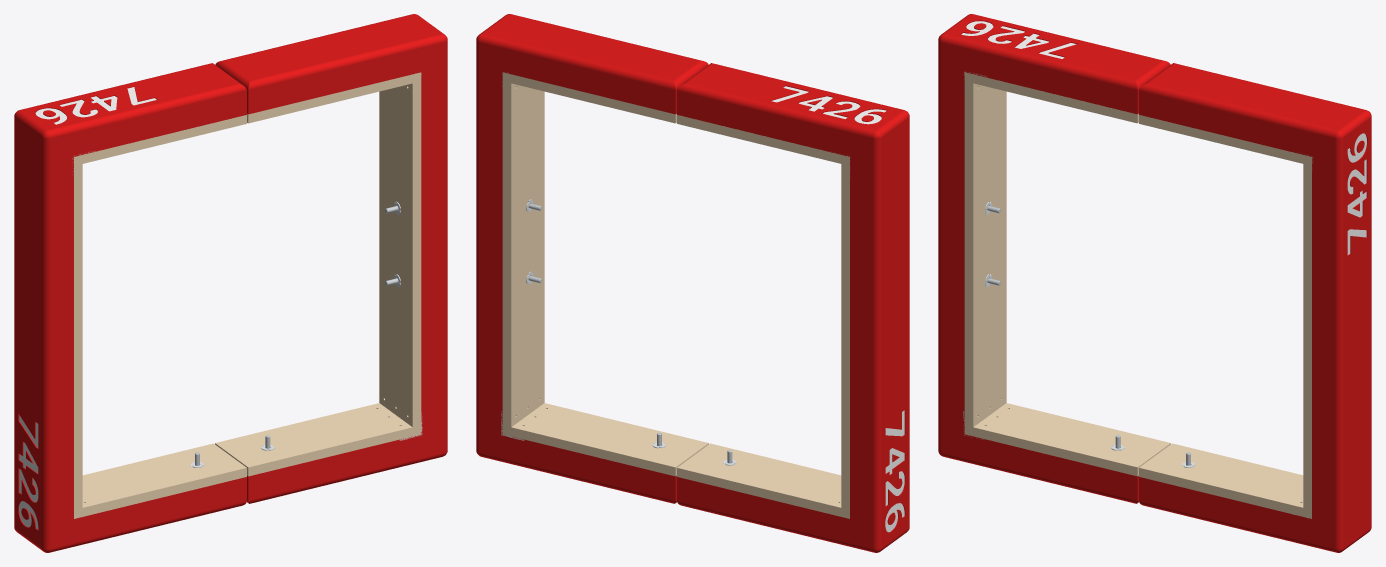
File: robot-2025-bumpers-fast.glb
3 views of the same model, side by side, from view 1: azimuth 30°, elevation 25°; view 2: azimuth 150°, elevation 25°; view 3: azimuth 330°, elevation 25° (orthographic).
Visible parts, largest first — view 1: Bumper (×2), BumperWoodFull (×2), BumperWoodHalf (×4); view 2: Bumper (×2), BumperWoodFull (×2), BumperWoodHalf (×4); view 3: Bumper (×2), BumperWoodFull (×2), BumperWoodHalf (×4).
Part boxes in pixels (x1=…): Bumper (×2): x1=14, y1=14, x2=447, y2=552; BumperWoodFull (×2): x1=74, y1=81, x2=421, y2=509; BumperWoodHalf (×4): x1=74, y1=72, x2=421, y2=518; Bumper (×2): x1=476, y1=14, x2=909, y2=552; BumperWoodFull (×2): x1=502, y1=81, x2=849, y2=509; BumperWoodHalf (×4): x1=502, y1=72, x2=849, y2=518; Bumper (×2): x1=938, y1=14, x2=1371, y2=552; BumperWoodFull (×2): x1=964, y1=81, x2=1311, y2=509; BumperWoodHalf (×4): x1=964, y1=72, x2=1311, y2=518.
Size of the model in its own units: 0.8922 by 0.889 by 0.127.
